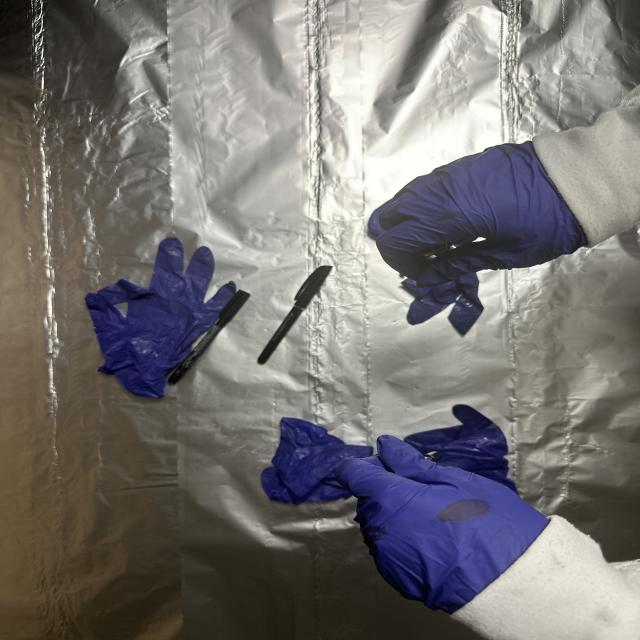gloves_contaminated: (338, 436, 546, 612), (375, 142, 587, 288)
